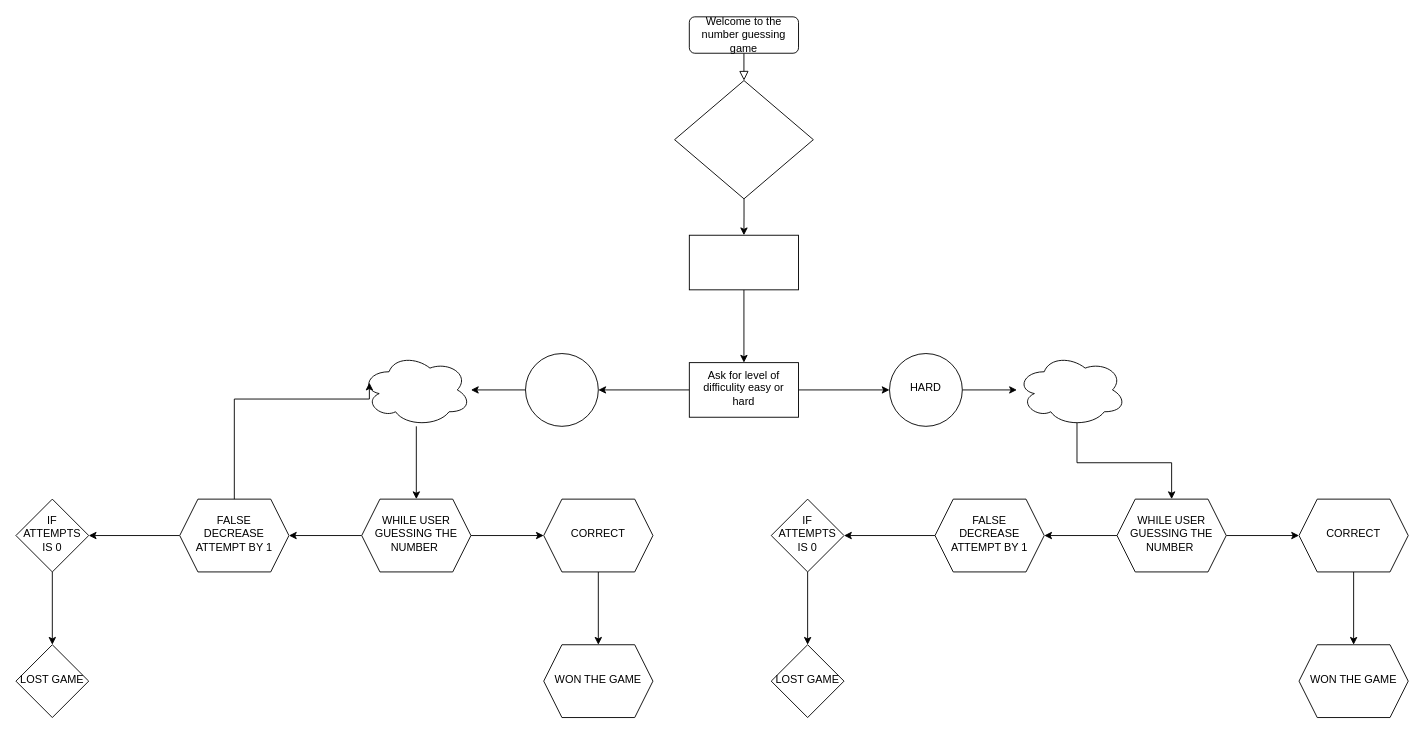
The diagram is 1424 pixels wide and 733 high, and some of its shapes have lost their labels. The shapes that lost their labels are listed below. From the top down, each one's centre as x and y in pixels, then its label:
At point (743, 139): "I am thinking about a number between 1 and 100".
At point (743, 262): "get a random number between 1 and 100".
At point (416, 389): "set guess attempts to 10".
At point (561, 389): "EASY".
At point (1071, 389): "set guess attempts to 5".
